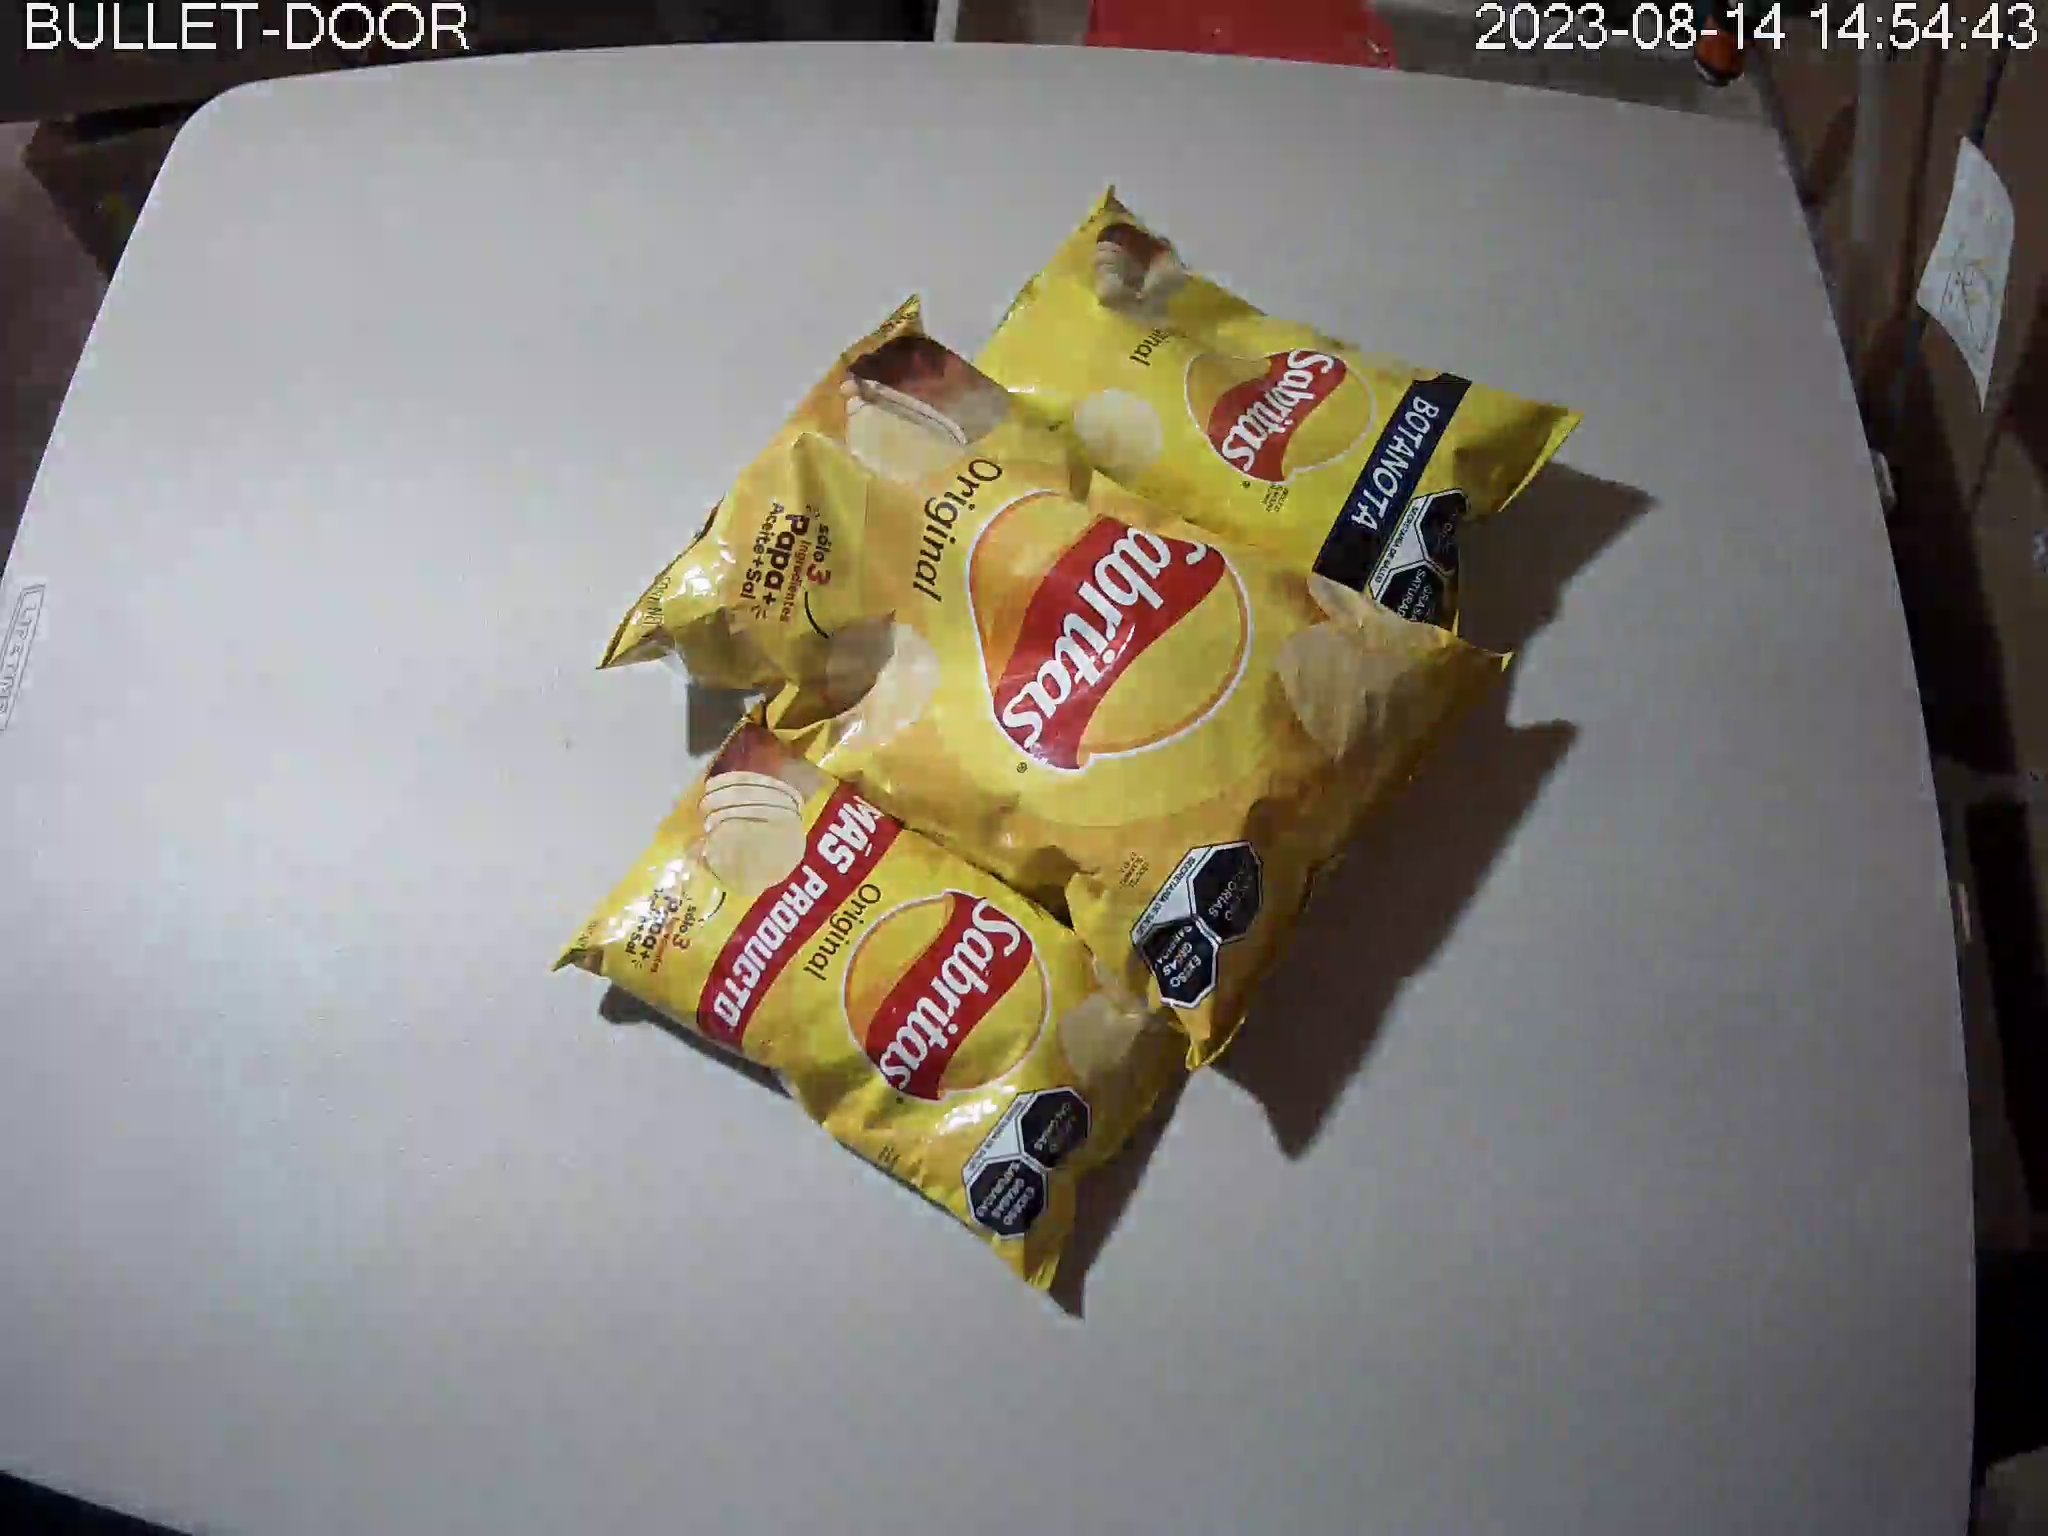Sabritas_160_F: (600, 295, 1513, 1070)
Sabritas_45_F: (552, 700, 1206, 1297)
Sabritas_64_F: (935, 184, 1584, 650)
